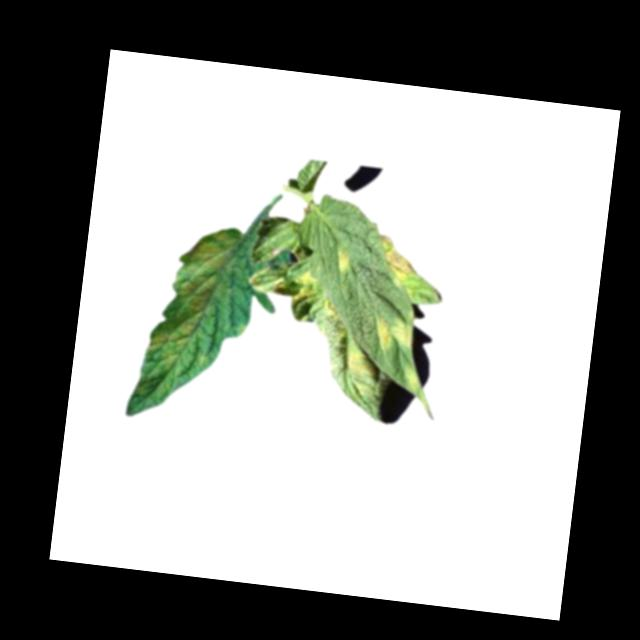Leaf_Mold: (142, 218, 239, 382), (290, 271, 345, 322), (374, 234, 423, 290), (338, 351, 377, 404), (370, 315, 415, 359), (335, 248, 352, 276)
